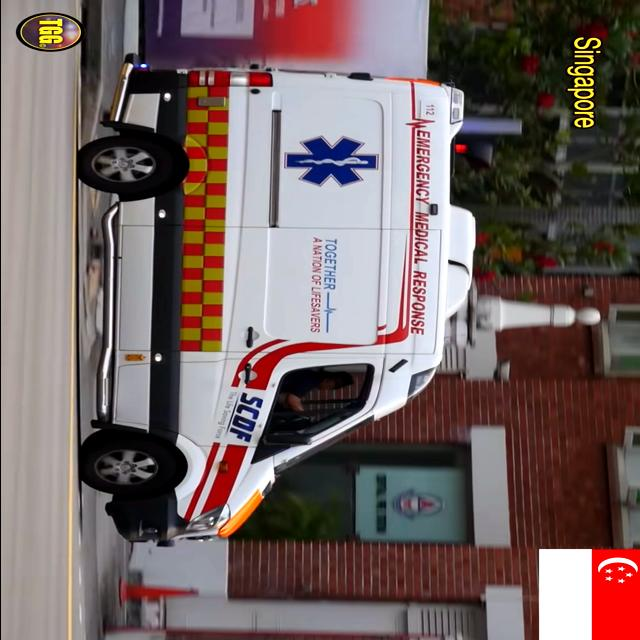emergency-vehicles: (50, 58, 488, 554)
